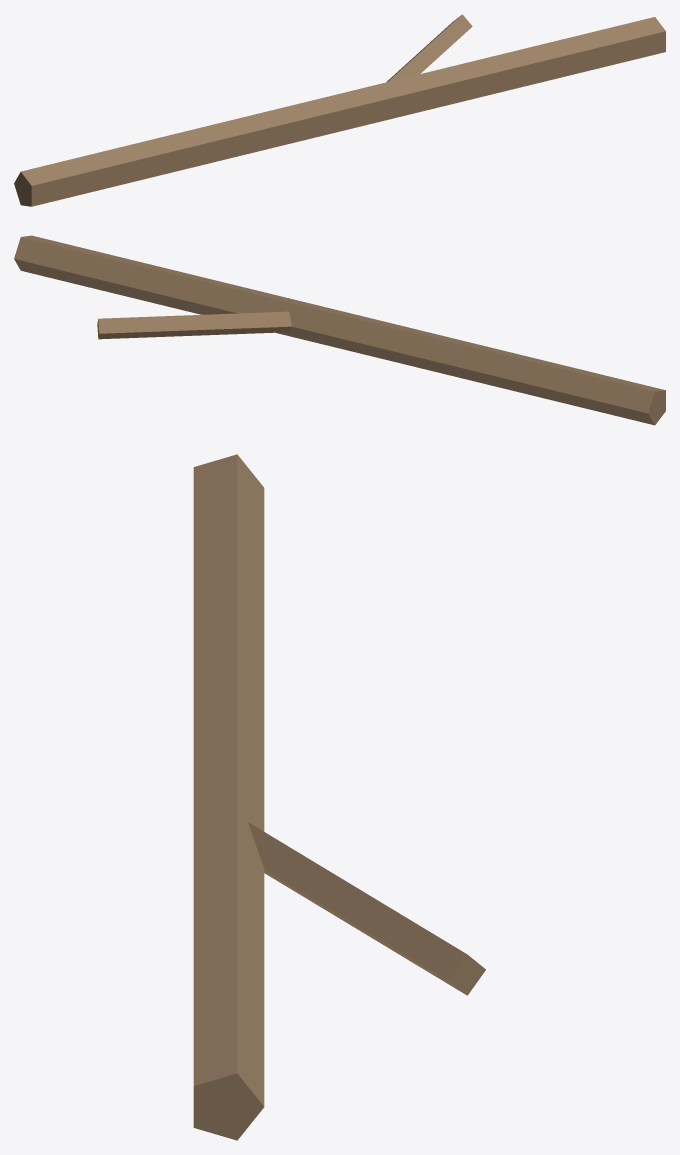
Rendered from graveto.glb.
3 views of the same model, one above another, from view 1: azimuth 30°, elevation 25°; view 2: azimuth 150°, elevation 25°; view 3: azimuth 270°, elevation 25° (orthographic). The views are drawn at different scales.
Parts seen in each view (by area): view 1: graveto; view 2: graveto; view 3: graveto.
Boxes of the visible parts, x1,y1,x2,y2 form: graveto: (14, 14, 665, 206); graveto: (14, 235, 665, 425); graveto: (193, 454, 485, 1140).
Size of the model in its own units: 0.45 by 0.0228 by 0.0899.
